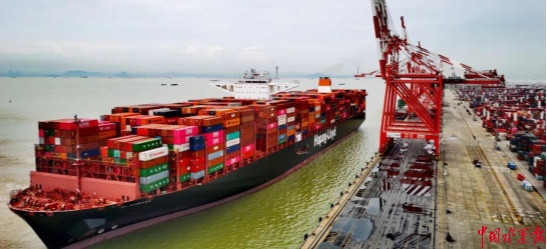Cargoship: (8, 60, 369, 245)
